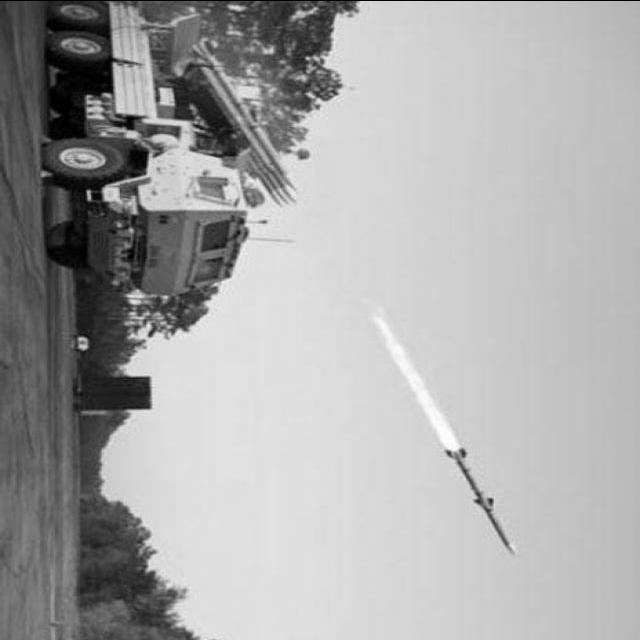missile: (440, 442, 523, 554)
